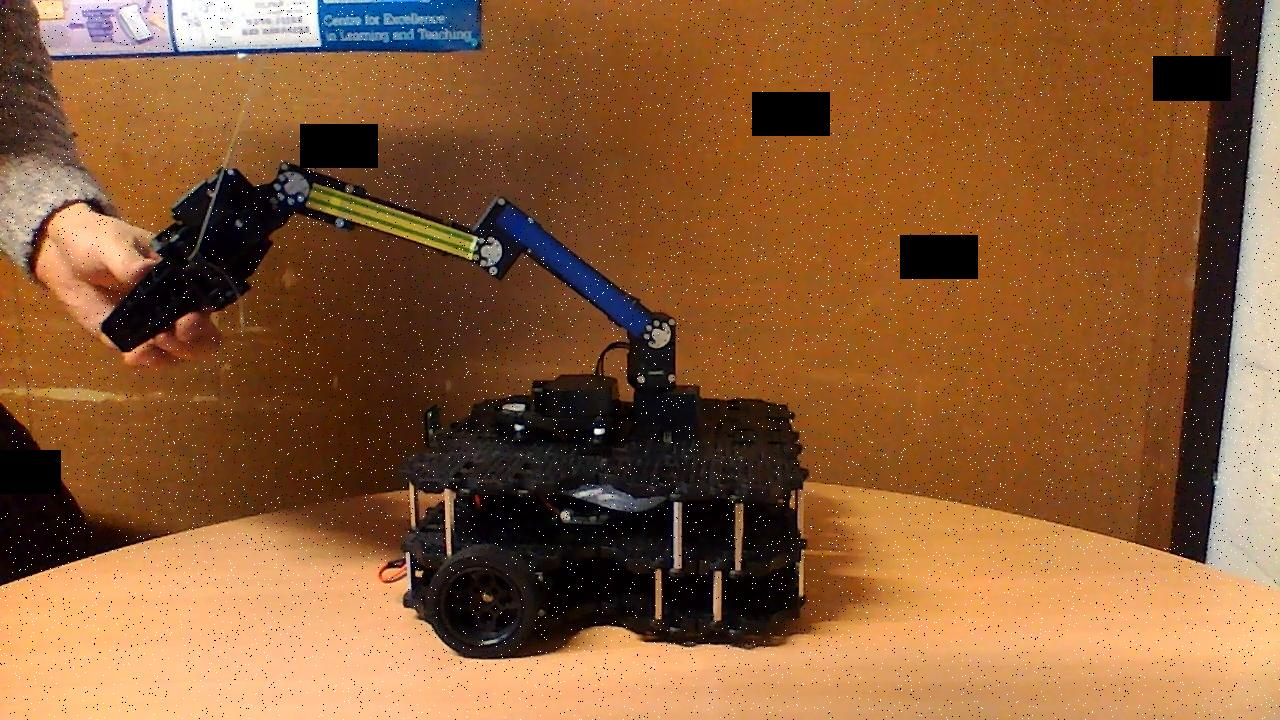Arm: (495, 194, 679, 358)
Hand: (98, 165, 281, 356)
Wrist: (278, 159, 503, 270)
base: (376, 371, 812, 662)
